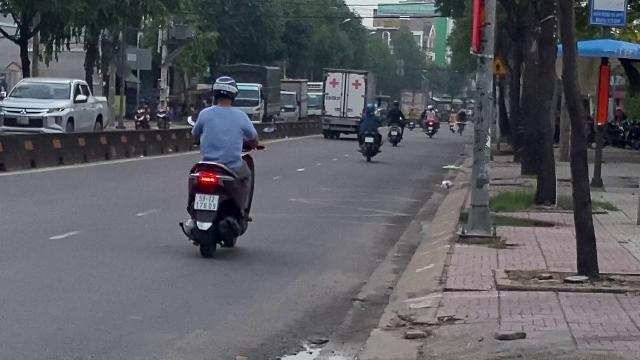helmet: (210, 76, 238, 105)
licenseplate: (194, 194, 218, 210)
motorcyclist: (178, 76, 260, 256)
